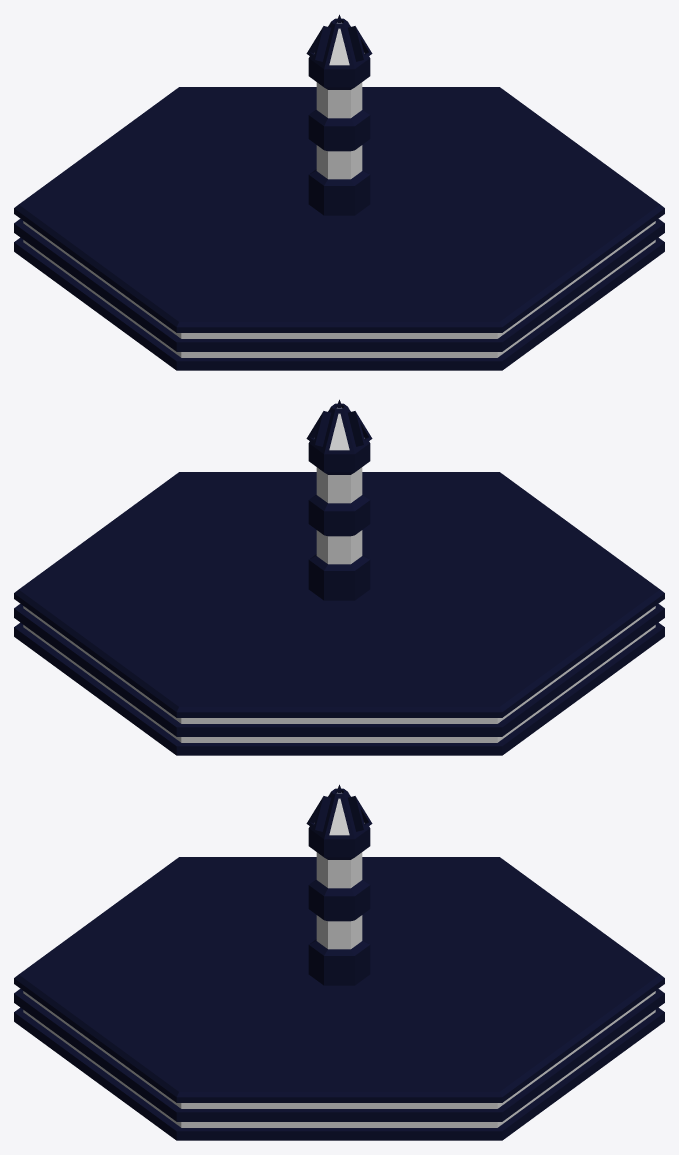
Rendered from platform.fbx.
The picture shows the model from 3 angles, top to bottom: view 1: azimuth 30°, elevation 25°; view 2: azimuth 150°, elevation 25°; view 3: azimuth 270°, elevation 25°; orthographic projection.
Parts seen in each view (by area): view 1: Platform; view 2: Platform; view 3: Platform.
Boxes of the visible parts, <box> form: Platform: <box>14,14,664,370</box>; Platform: <box>14,399,664,755</box>; Platform: <box>14,784,664,1140</box>.
Bounding box in the file's own units: 866 × 390 × 1000.
